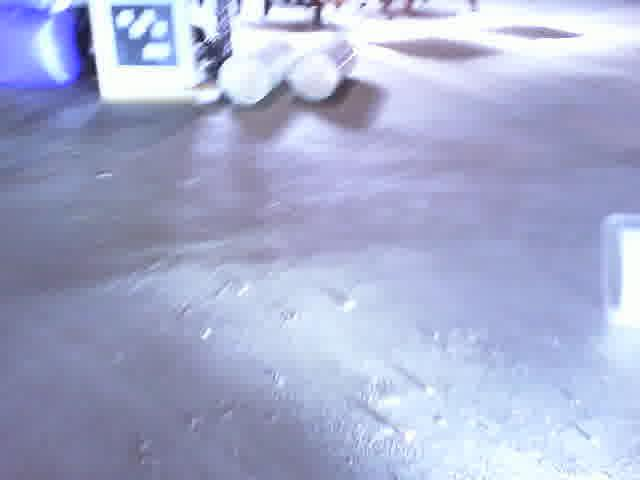coral: (215, 39, 297, 103), (287, 41, 362, 102)
